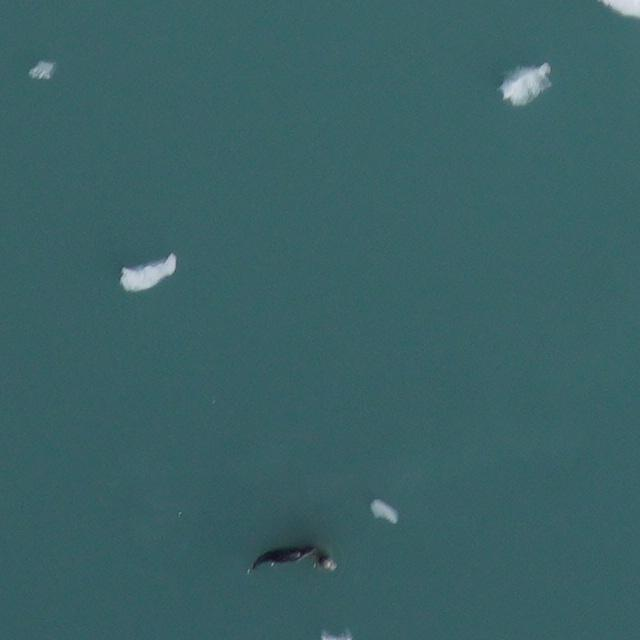seal: (248, 541, 323, 572), (306, 546, 342, 578)
